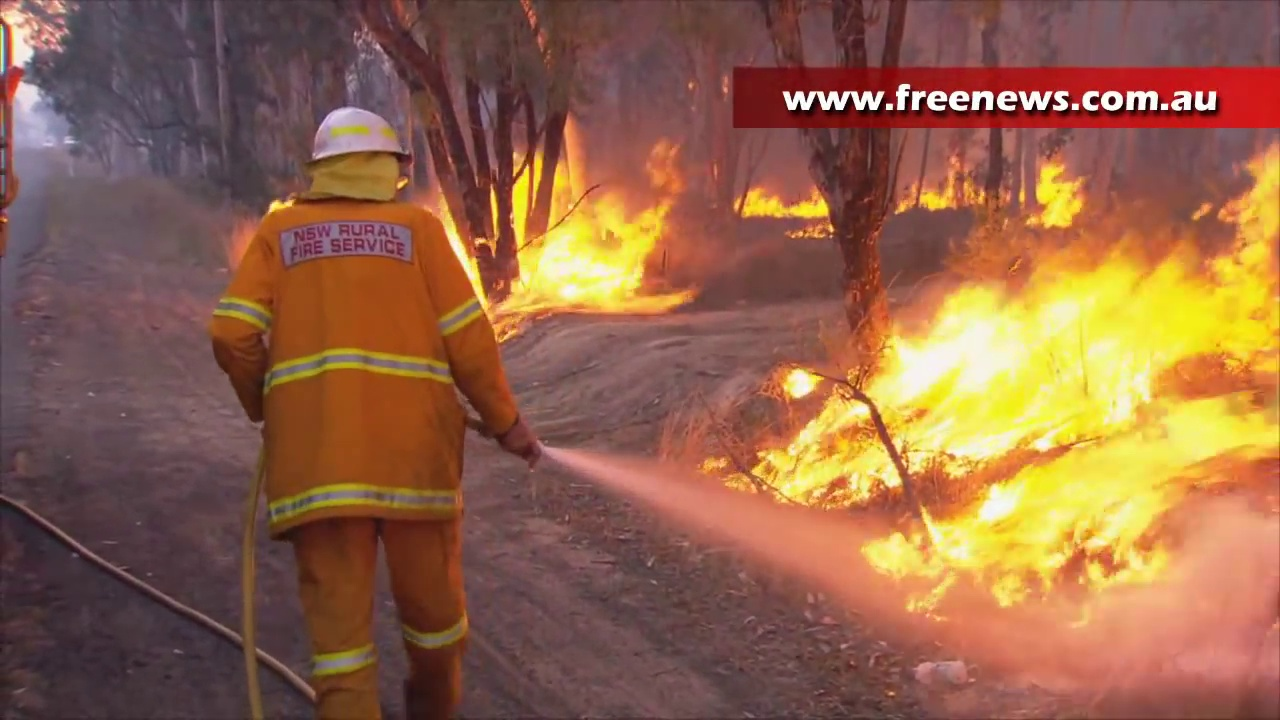fire: (773, 280, 1280, 600), (509, 150, 675, 309), (1224, 153, 1280, 274), (1035, 153, 1077, 229), (743, 189, 824, 218), (923, 173, 975, 211)
